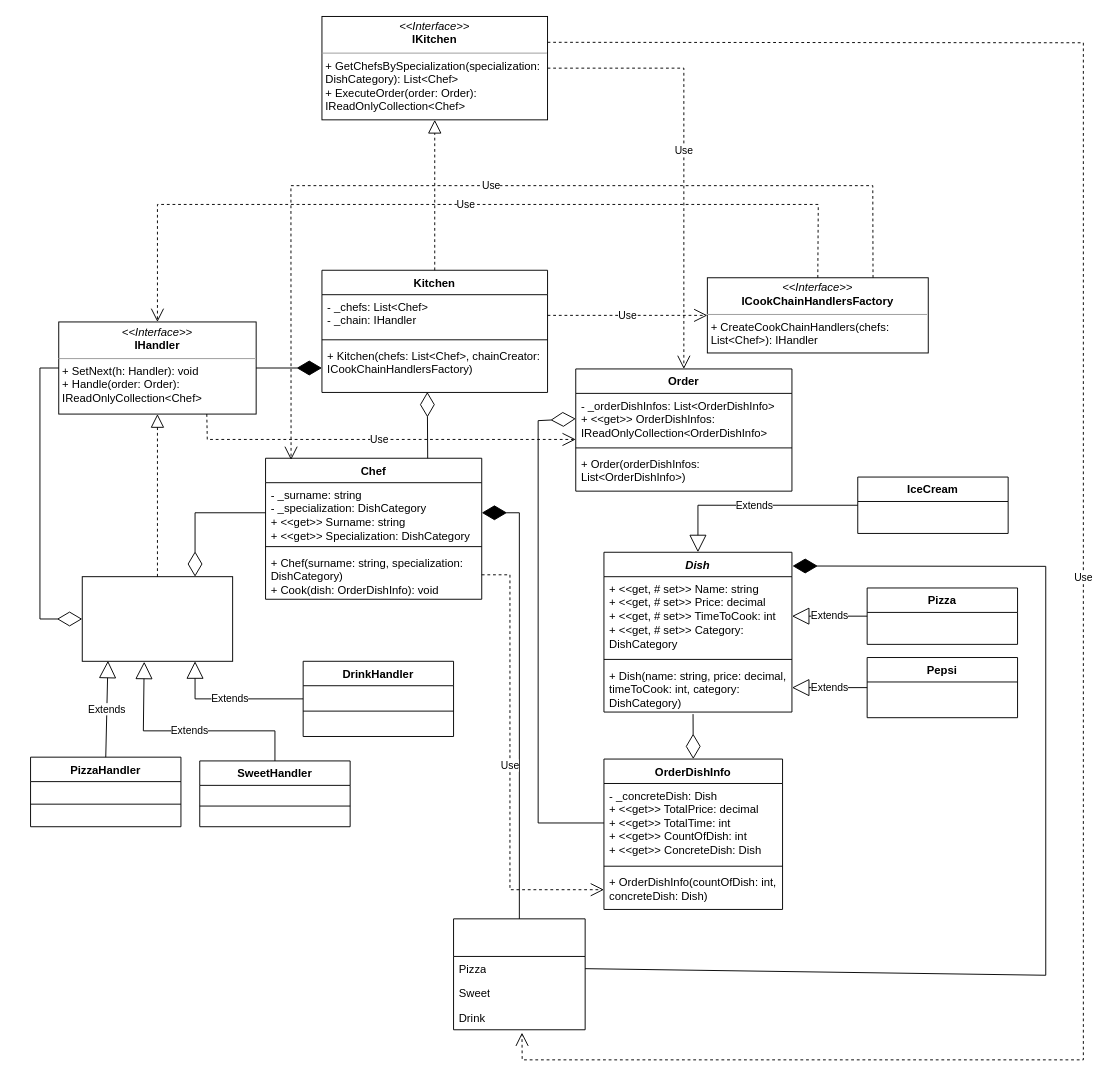
This 1113x1089 diagram has some shape labels left out. Each missing label, with the box of its shape:
<<enumeration>> DishCategory: (453, 918, 585, 1030)
BaseHandler # _chefs: List<Chef> + BaseHandler(chefs: List<Chef>): (81, 576, 233, 661)
